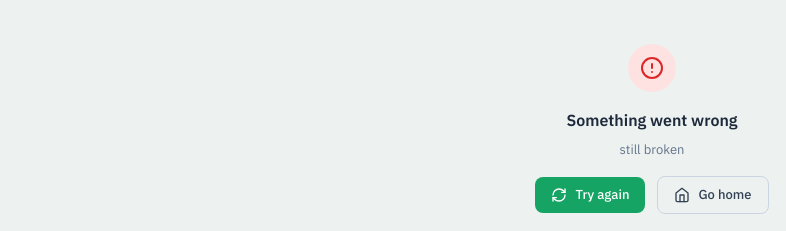
ErrorBoundary › re-renders the children when Try again is pressed
Expected: the heading "Something went wrong" is shown, [566,110,738,130]
What coordinates should you click on to do the following:
click the button "Try again"
I would click on:
 (590, 195)
Its box is [536,177,646,213].
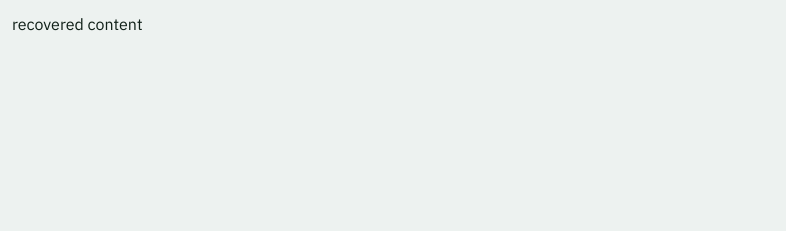
Result: the text "recovered content" is shown at [12,14,143,34]
Result: the heading "Something went wrong" is gone
